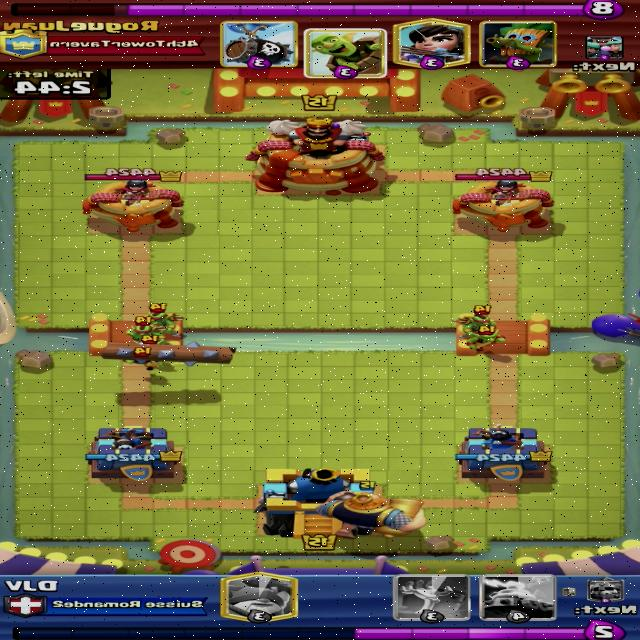Enemy-Goblin: (464, 325, 506, 352), (121, 348, 159, 371), (133, 335, 167, 357)
Enemy-SpearGoblin: (144, 303, 187, 334), (453, 305, 496, 333), (126, 316, 164, 347)
Player-GoblinDrill: (587, 37, 624, 65)
Player-Log: (101, 341, 238, 367)
Player-RoyalGiant: (313, 481, 426, 539)
